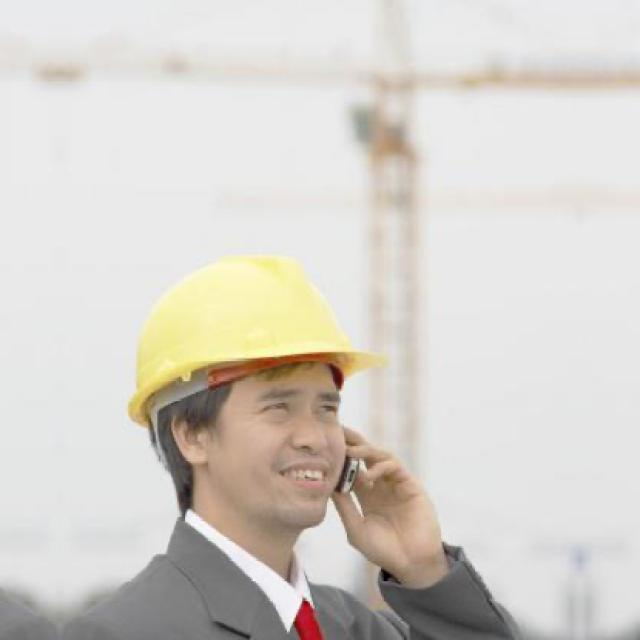con casco: (94, 246, 406, 472)
